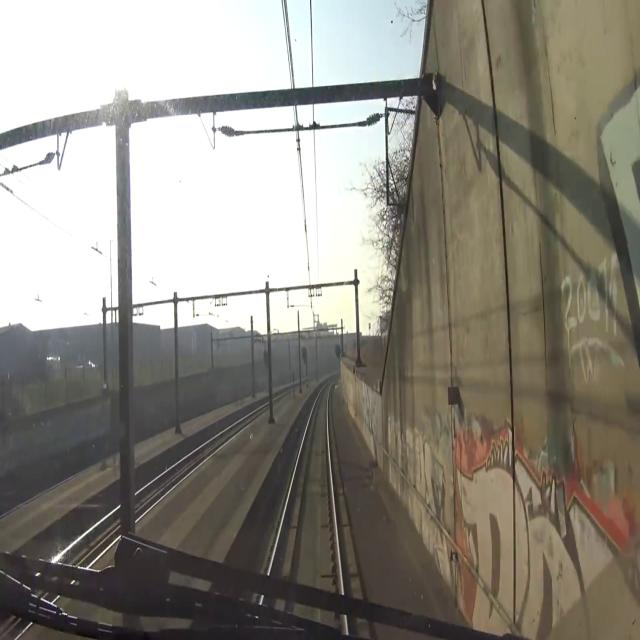rail-track: (271, 387, 340, 599), (136, 421, 246, 514), (48, 511, 120, 574), (255, 406, 269, 417)
